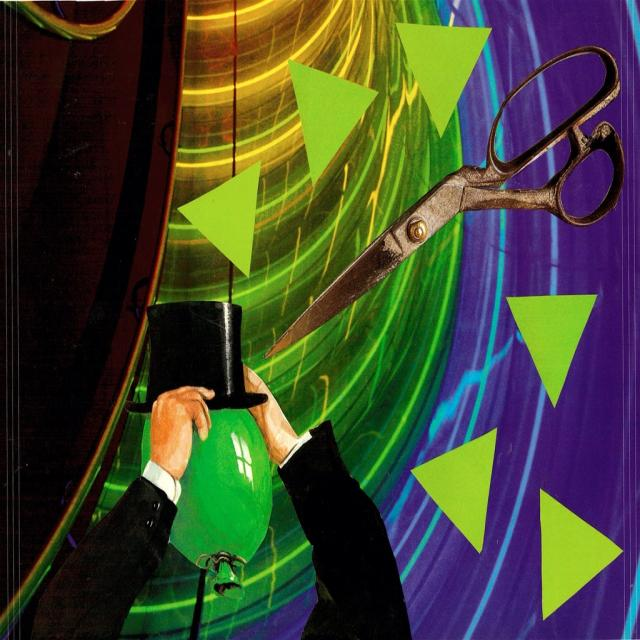scissors: (264, 44, 624, 359)
